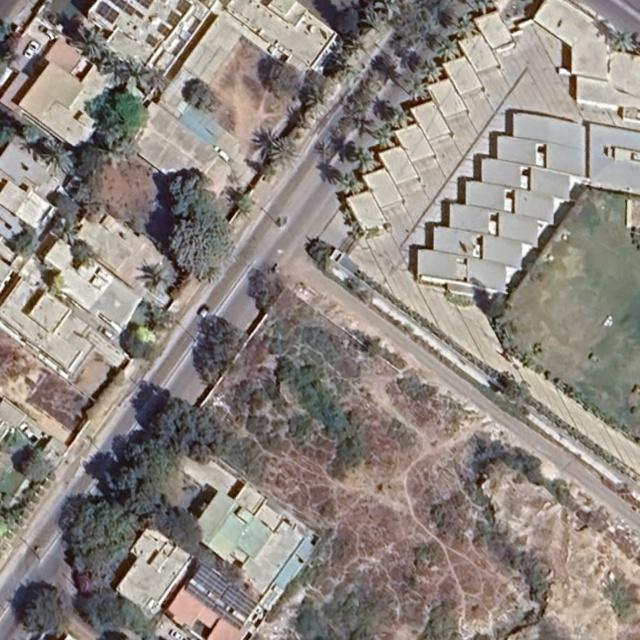solar panel: (192, 564, 230, 599), (222, 586, 258, 619), (109, 0, 146, 24), (185, 583, 217, 609), (212, 605, 245, 630), (95, 2, 120, 25), (165, 11, 181, 27), (175, 0, 192, 15), (157, 23, 172, 38), (145, 35, 160, 48), (136, 0, 155, 9)
